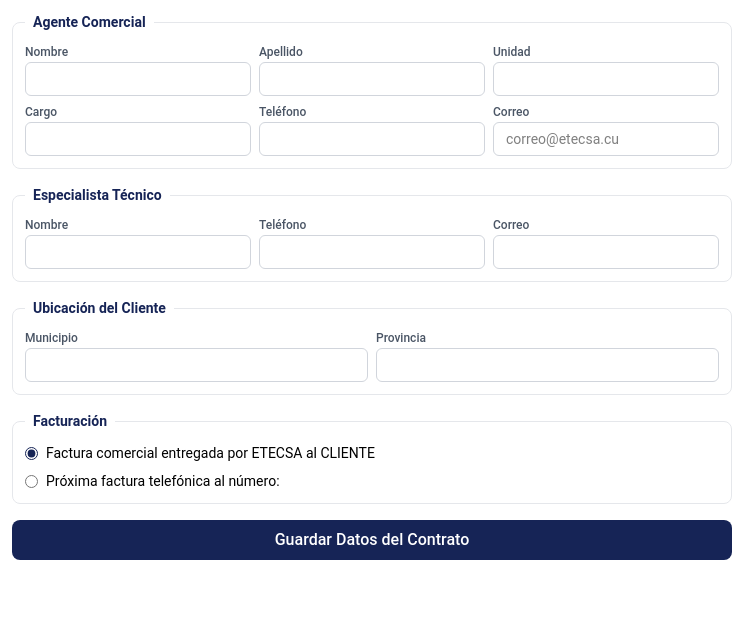
Test: ContratoInfoForm › debe mostrar input de número al seleccionar facturación telefónica
The image size is (749, 619).
What coordinates should you click on to do the following:
click the radio button labelled "Próxima factura telefónica al número:"
I would click on:
 (32, 481)
Its box is [25,474,38,488].
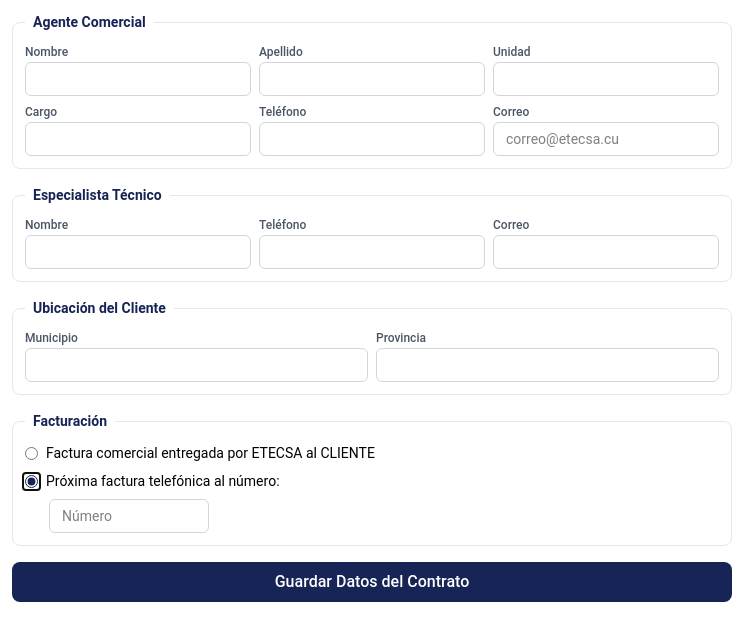
Expected: the field with placeholder "Número" is shown, [49,499,209,533]
